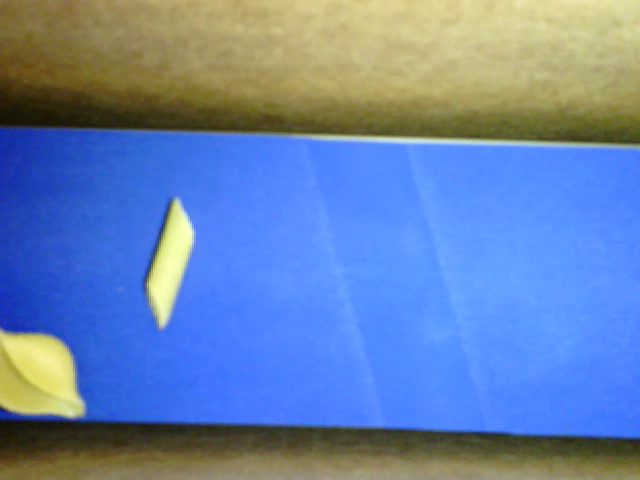penne: (145, 197, 194, 331)
shell: (1, 328, 86, 418)
